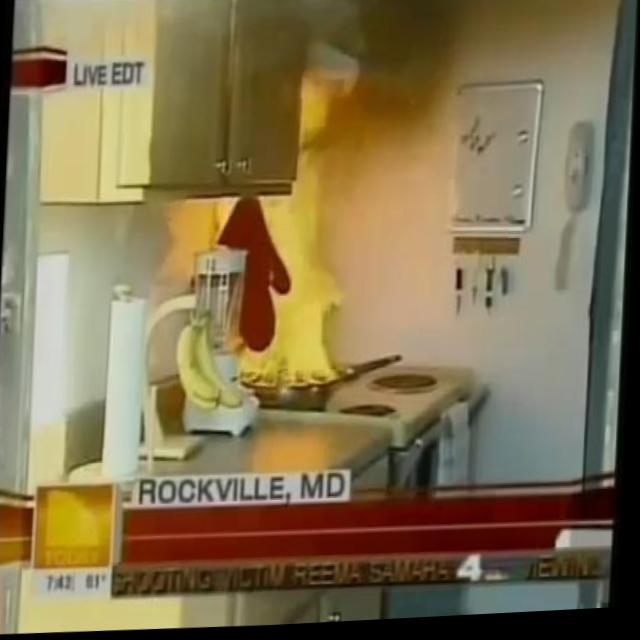fire: (212, 71, 357, 399)
